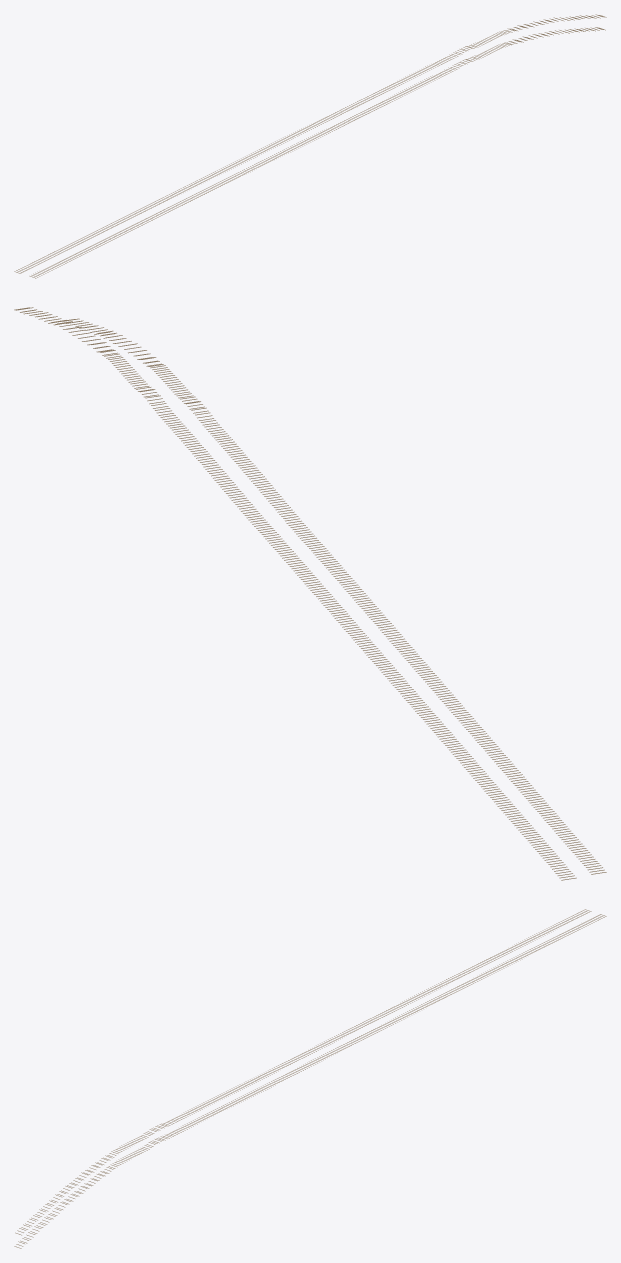
The model's file is c_1623_17828_rail_sleeper.glb.
3 views of the same model, one above another, from view 1: azimuth 90°, elevation 25°; view 2: azimuth 150°, elevation 25°; view 3: azimuth 270°, elevation 25° (orthographic). The views are drawn at different scales.
Visible parts, largest first — view 1: geometry_0; view 2: geometry_0; view 3: geometry_0.
Part boxes in pixels (left/top/right/bottom): geometry_0: left=14, top=14, right=606, bottom=278; geometry_0: left=14, top=307, right=606, bottom=880; geometry_0: left=14, top=909, right=606, bottom=1248.
Size of the model in its own units: 183 by 10.77 by 152.
